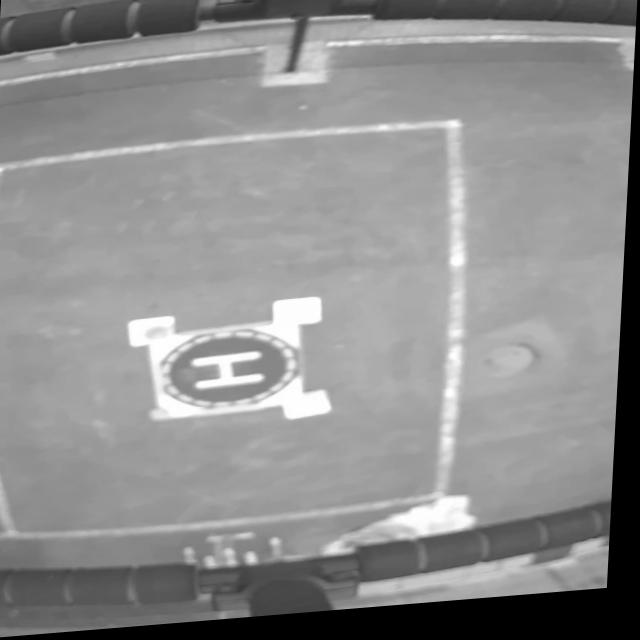Helipad: (192, 355, 268, 394)
